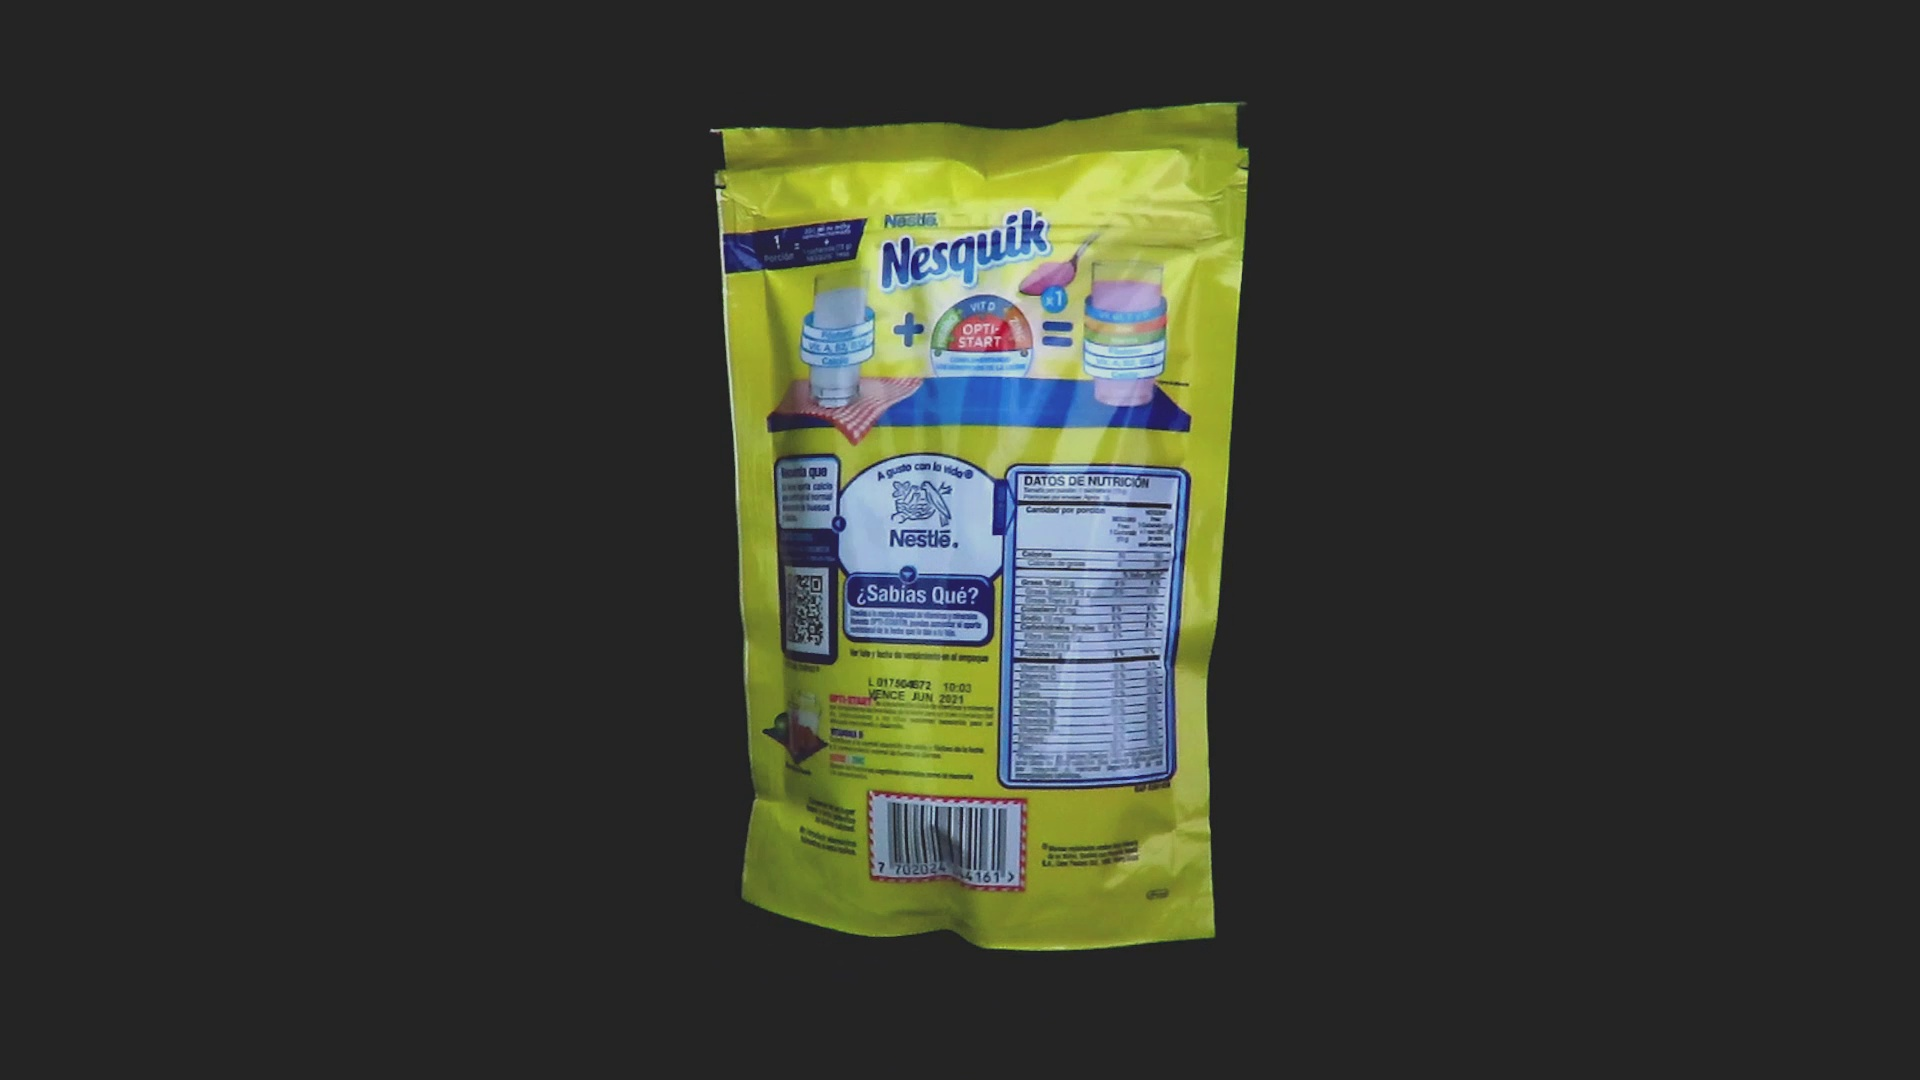COL0170305DYP20000: (705, 96, 1255, 957)
